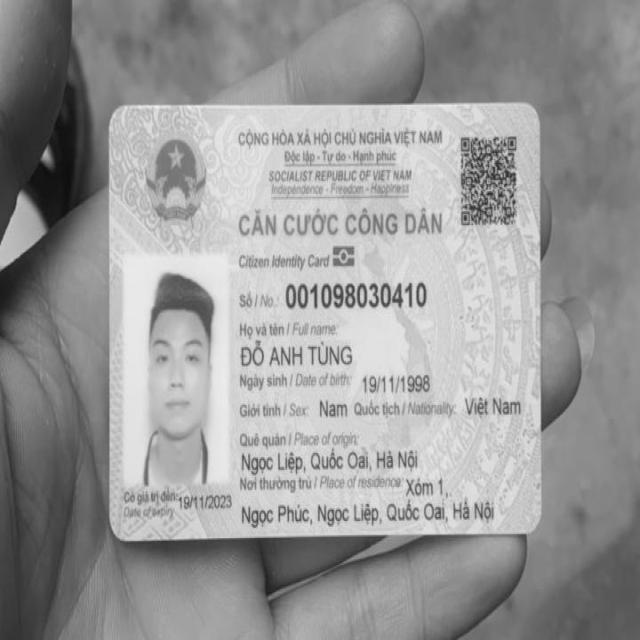bottom_left: (96, 509, 142, 555)
bottom_right: (516, 504, 552, 544)
image_person: (124, 255, 234, 487)
top_left: (98, 95, 137, 140)
top_right: (509, 90, 553, 136)
